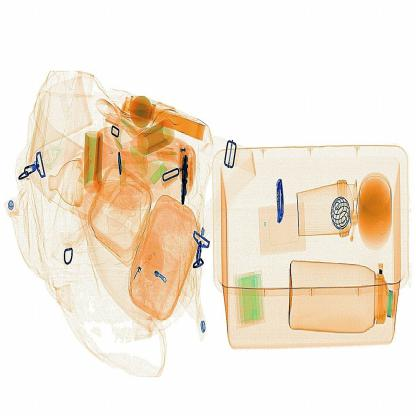knife: (267, 171, 295, 238)
